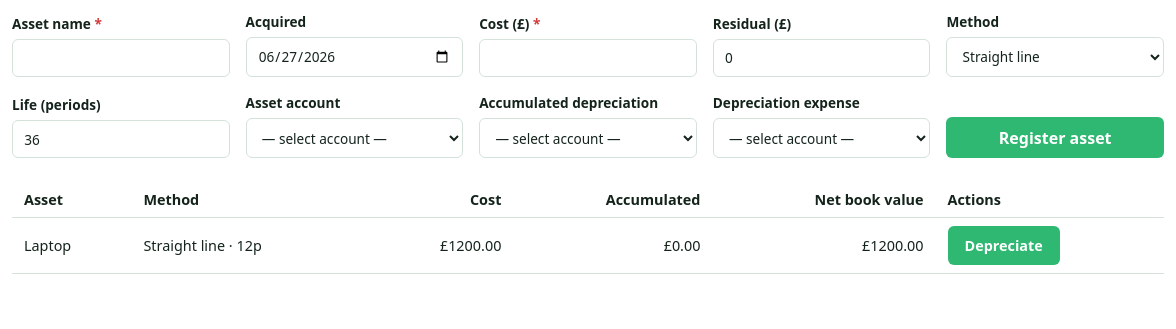
Scenario: FixedAssetsScreen › shows the register with net book value and depreciates an asset
Expected: the text "Laptop" is shown, [12,218,131,274]
Expected: the text "£1200.00" is shown 2 times, [370,218,513,274]; [712,218,936,274]
Click the button "Depreciate" at (1004, 246), box [948,226,1060,265]
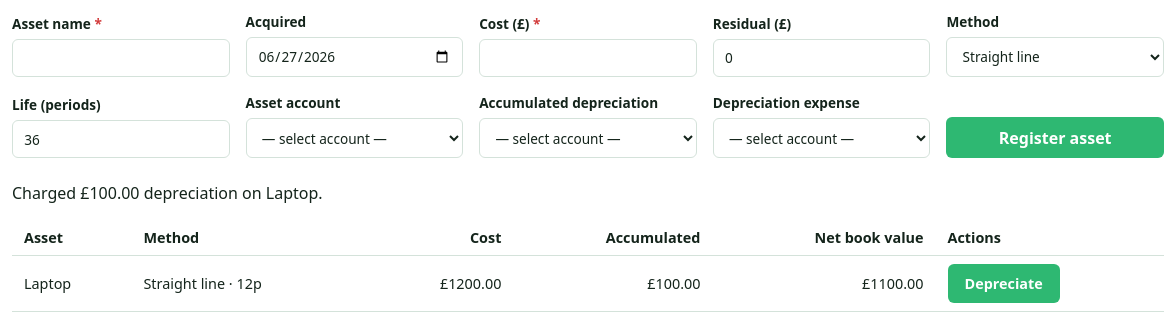
Expected: the text "£1100.00" is shown, [712,256,936,312]
Expected: the text "Charged £100.00 depreciation on Laptop." is shown, [12,182,323,204]
